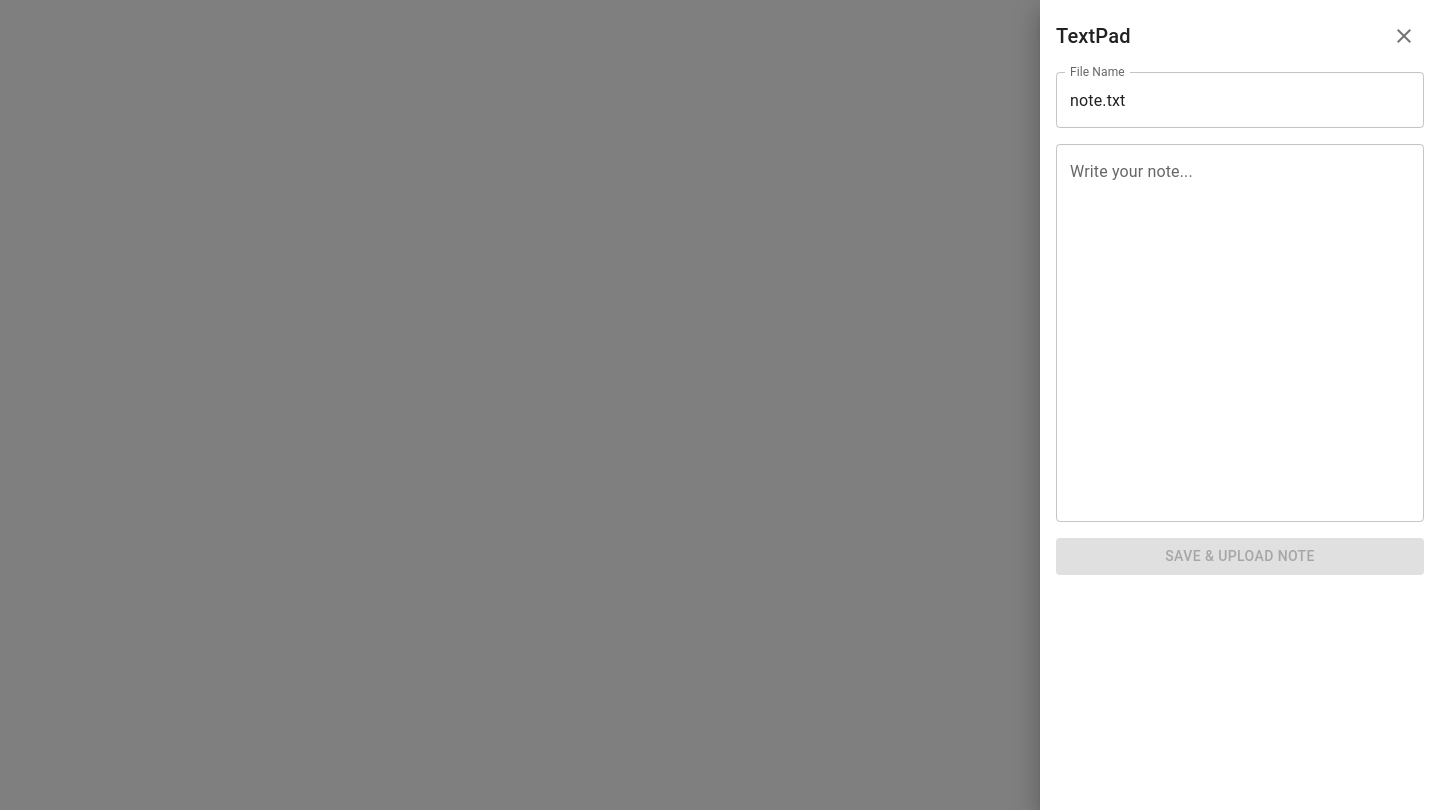
Scenario: clears the error after editing the file name
Type "hello" into the text box labelled "Write your note..." at (1240, 333), box x1=1070 y1=160 x2=1410 y2=506
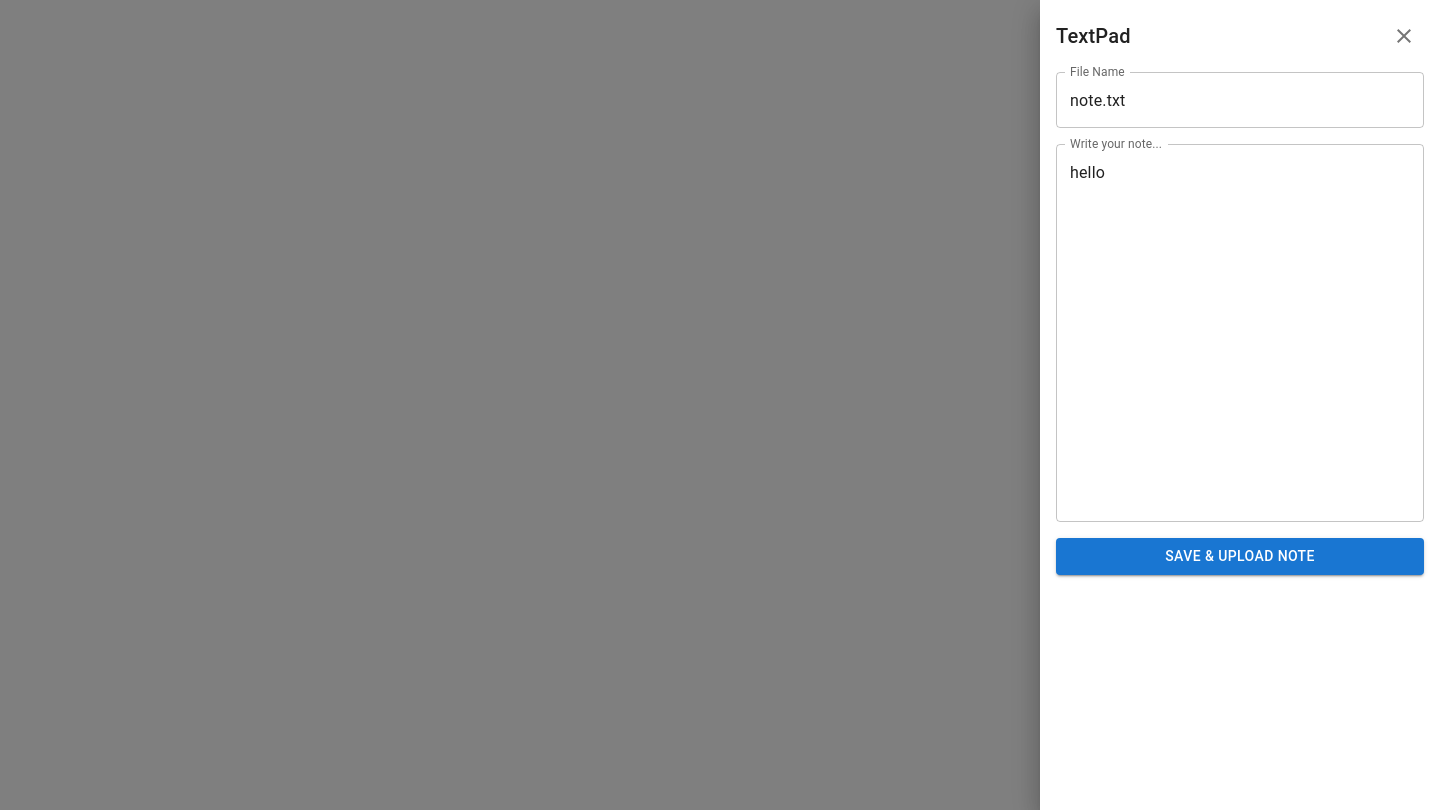
Replace the text in the field labelled "File Name" with "a/b" at (1240, 100), box x1=1056 y1=72 x2=1424 y2=128
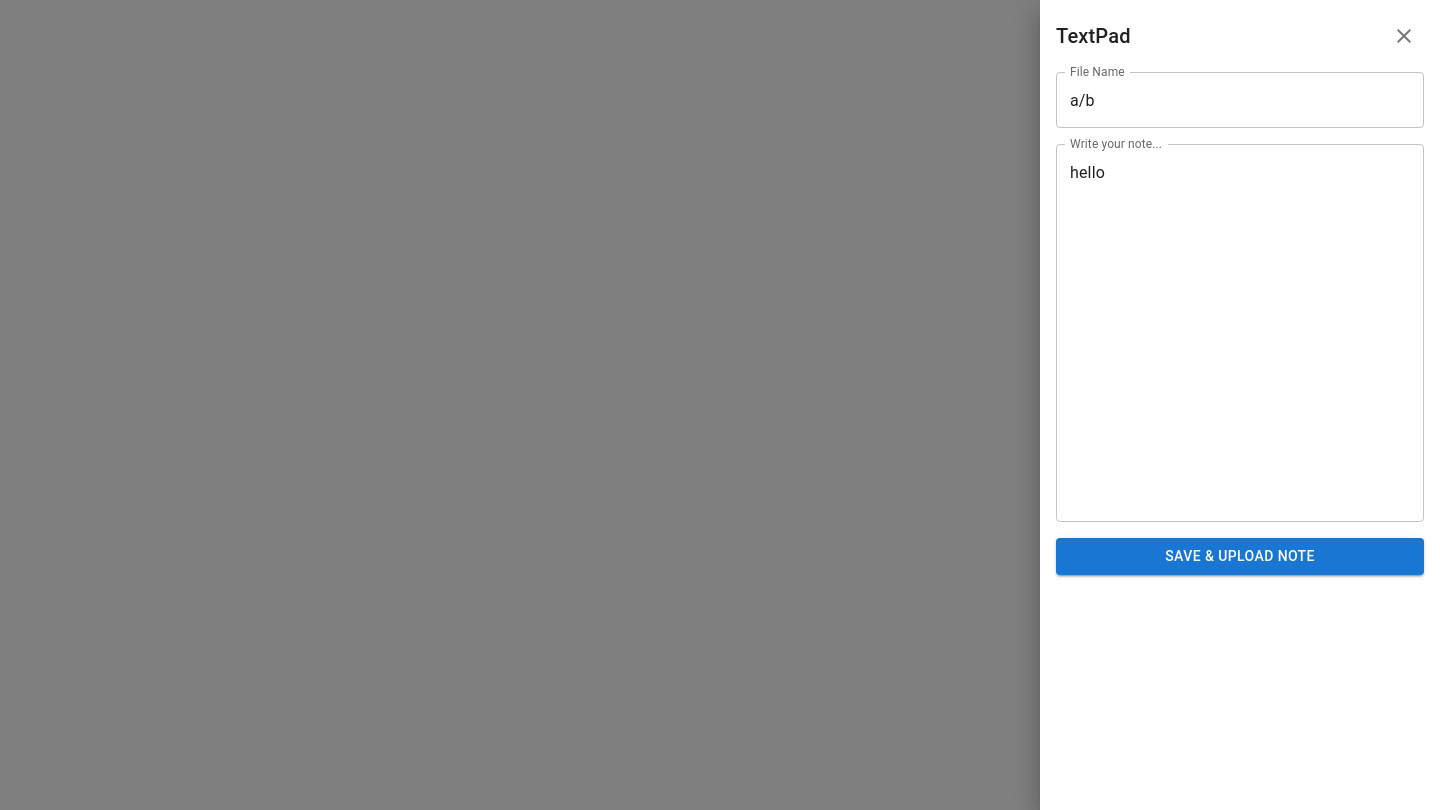
Click the button "Save & Upload Note" at (1240, 556), box x1=1056 y1=538 x2=1424 y2=574
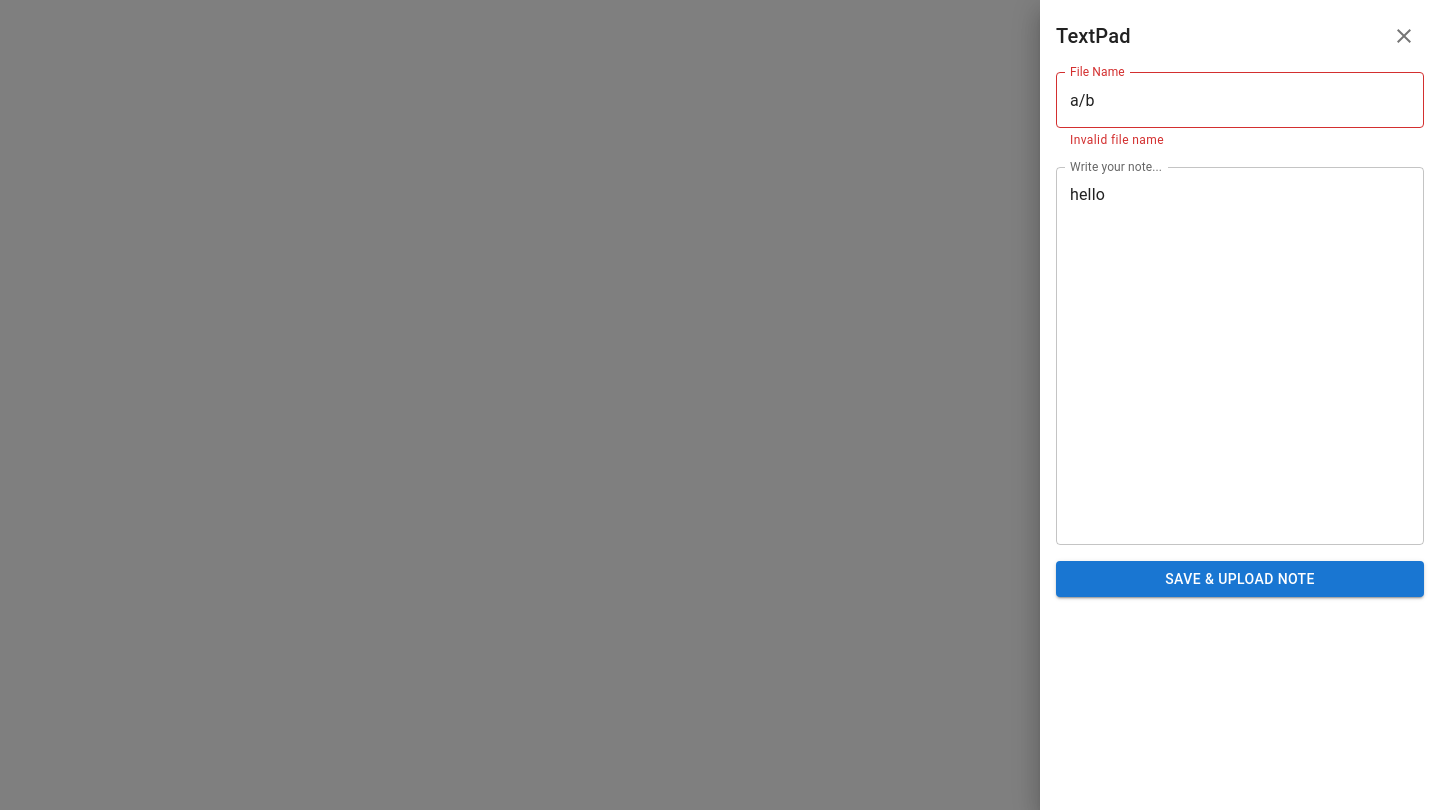
Expected: the text "Invalid file name" is shown, x1=1070 y1=133 x2=1164 y2=147
Replace the text in the field labelled "File Name" with "ok.txt" at (1240, 100), box x1=1056 y1=72 x2=1424 y2=128
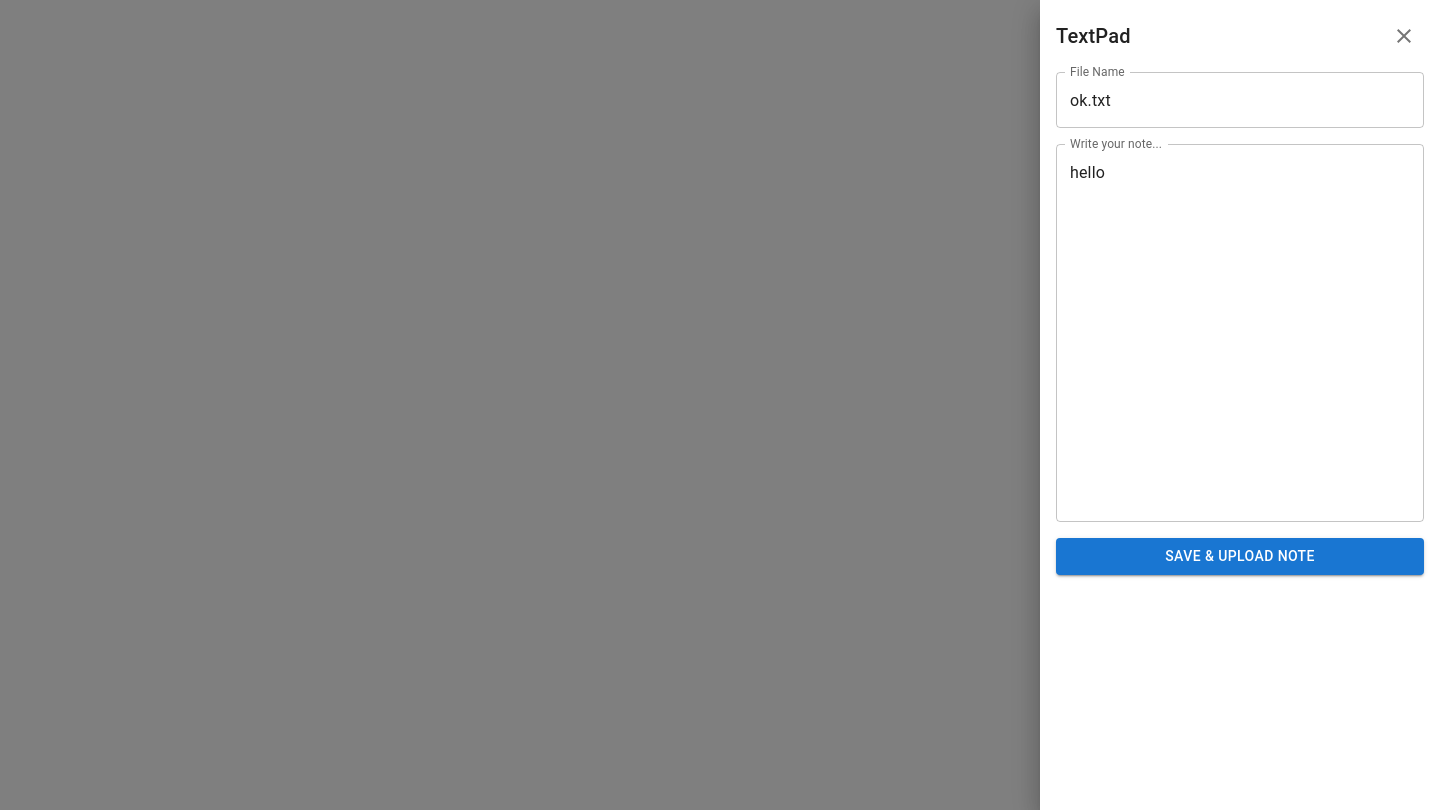
Expected: the text "Invalid file name" is gone
